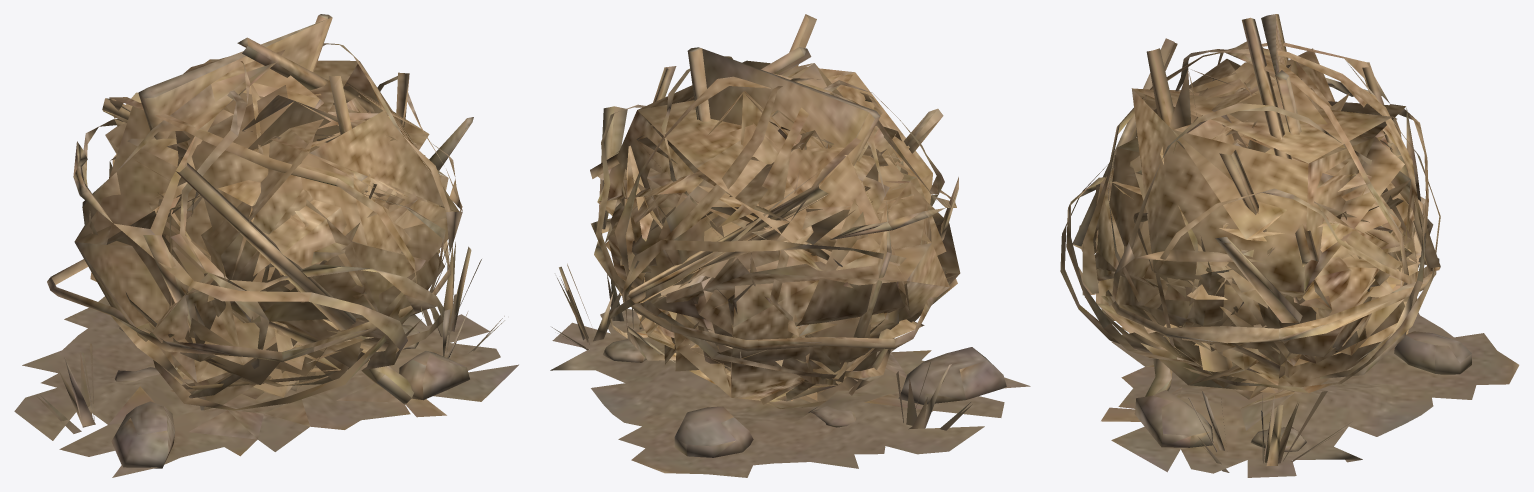
File: tumbleweed.glb
The picture shows the model from 3 angles, left to right: view 1: azimuth 30°, elevation 25°; view 2: azimuth 150°, elevation 25°; view 3: azimuth 270°, elevation 25°; orthographic projection. The views are drawn at different scales.
Size of the model in its own units: 0.1646 by 0.1313 by 0.1509.
1 material, 1 textured.
